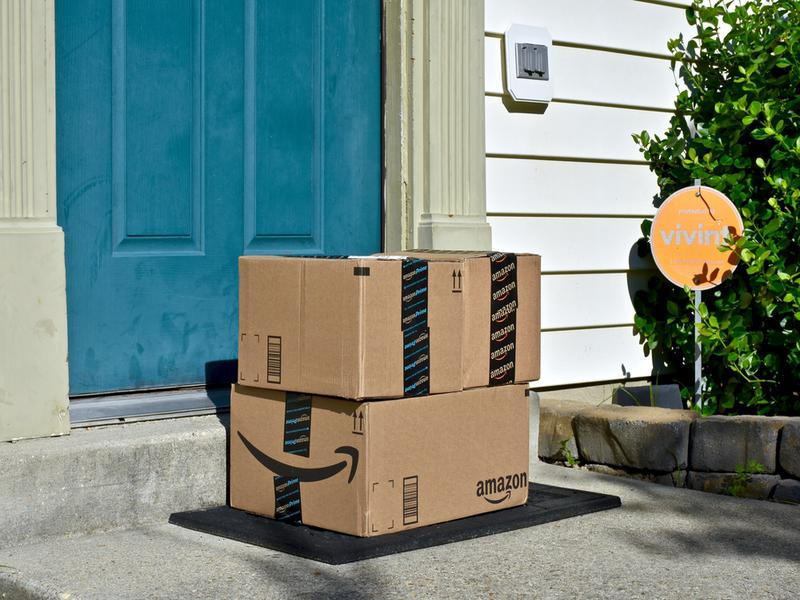package: (217, 377, 536, 541), (229, 243, 548, 403)
